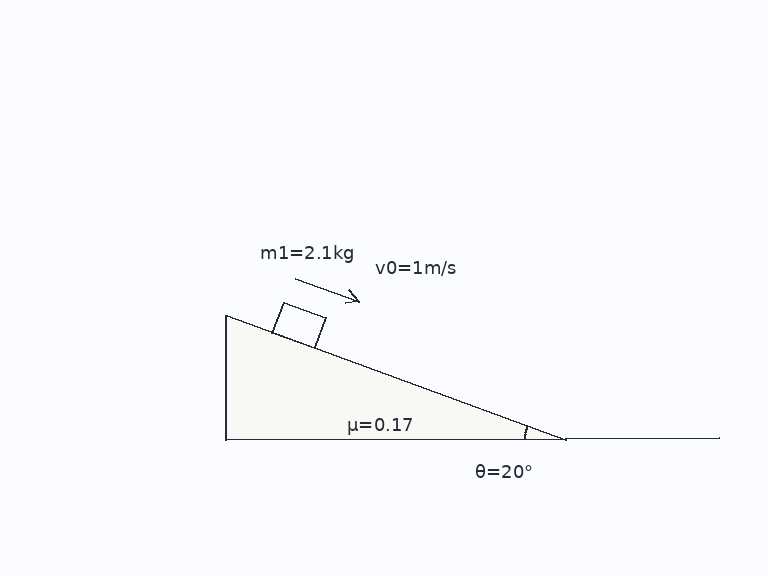block: (270, 300, 327, 350)
ramp: (224, 314, 567, 441)
